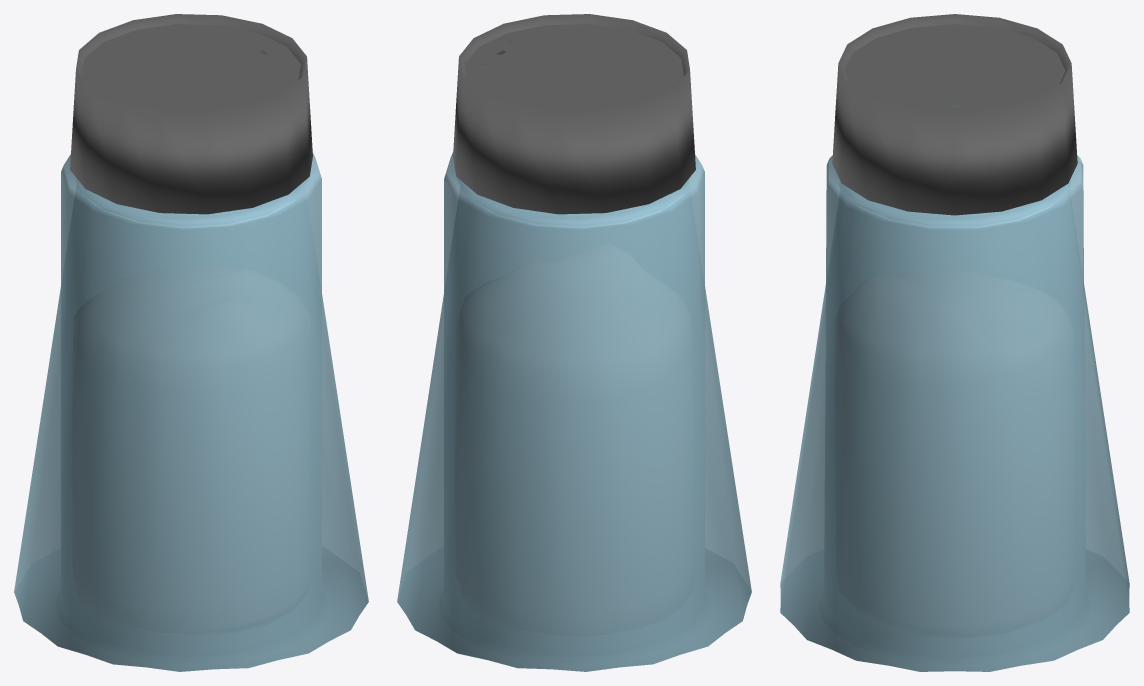
Rendered from solt botil.fbx.
3 views of the same model, side by side, from view 1: azimuth 30°, elevation 25°; view 2: azimuth 150°, elevation 25°; view 3: azimuth 270°, elevation 25° (orthographic).
Visible parts, largest first — view 1: polySurface2, polySurface3; view 2: polySurface2, polySurface3; view 3: polySurface2, polySurface3.
Boxes of the visible parts, bbox=[...] form: polySurface2: bbox=[14, 152, 368, 671]; polySurface3: bbox=[70, 14, 312, 214]; polySurface2: bbox=[397, 152, 751, 671]; polySurface3: bbox=[453, 14, 695, 214]; polySurface2: bbox=[780, 105, 1129, 671]; polySurface3: bbox=[832, 14, 1077, 215].
Size of the model in its own units: 2.09 by 3.61 by 2.09.
